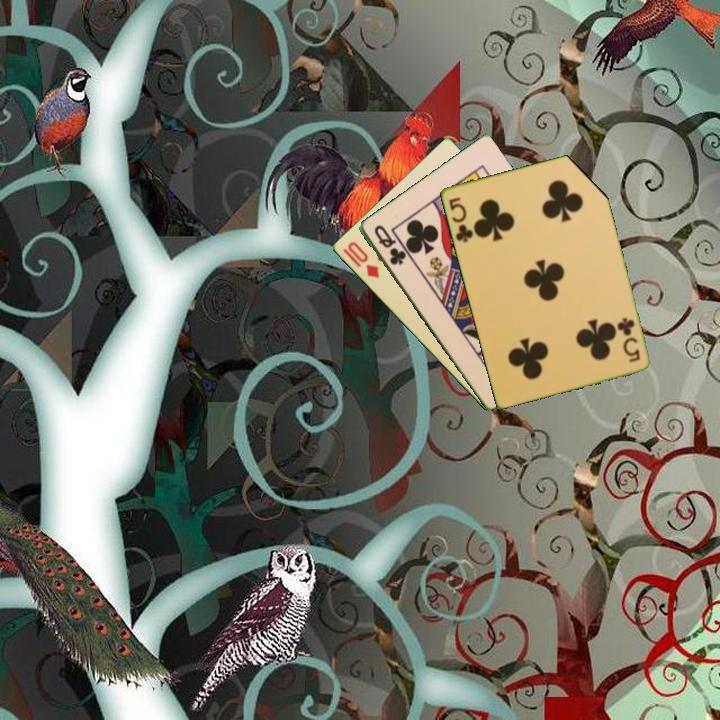10d: (344, 238, 382, 281)
5c: (445, 193, 476, 245), (614, 314, 643, 365)
Qc: (370, 221, 409, 268)
